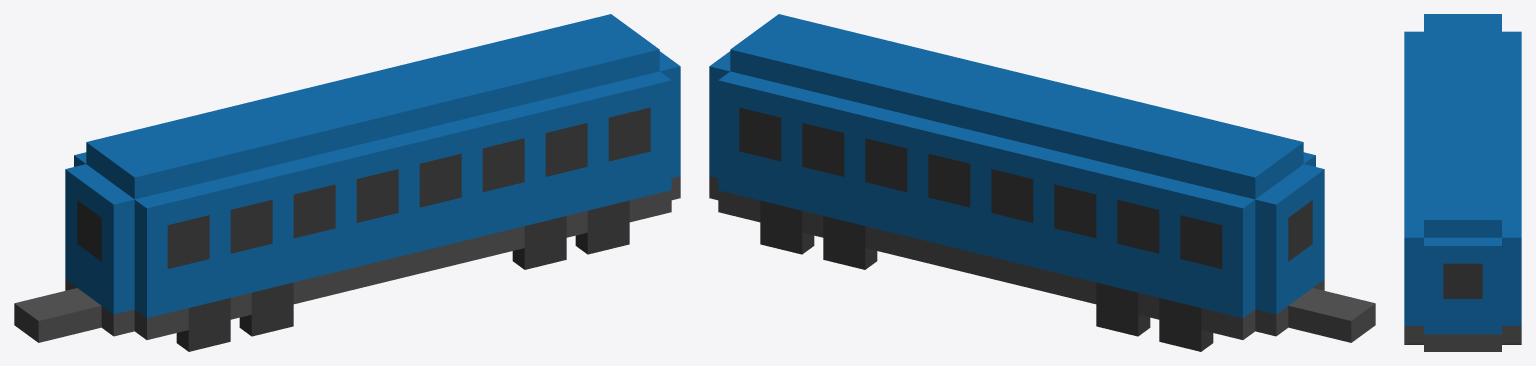
File: train-trailer-v3-blue.gltf
3 renders of one model, left to right at view 1: azimuth 30°, elevation 25°; view 2: azimuth 150°, elevation 25°; view 3: azimuth 270°, elevation 25°, orthographic. The views are drawn at different scales.
Visible parts, largest first — view 1: model, wheels; view 2: model, wheels; view 3: model.
Boxes of the visible parts, bbox=[...] form: model: bbox=[14, 14, 680, 342]; wheels: bbox=[176, 200, 629, 351]; model: bbox=[709, 14, 1375, 342]; wheels: bbox=[760, 200, 1213, 351]; model: bbox=[1404, 14, 1521, 351].
Bounding box in the file's own units: 3 × 0.8 × 0.6.
2 materials, 2 textured.
